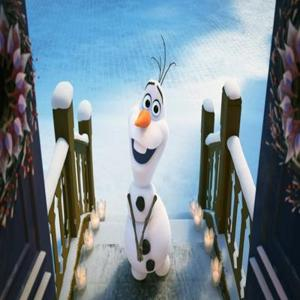olaf: (117, 39, 182, 279)
